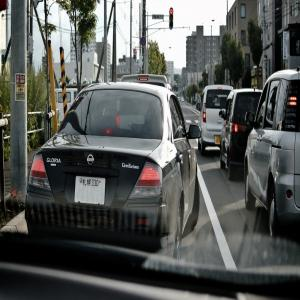Vehicle-registration-plate: (74, 170, 105, 196), (216, 135, 222, 144)
